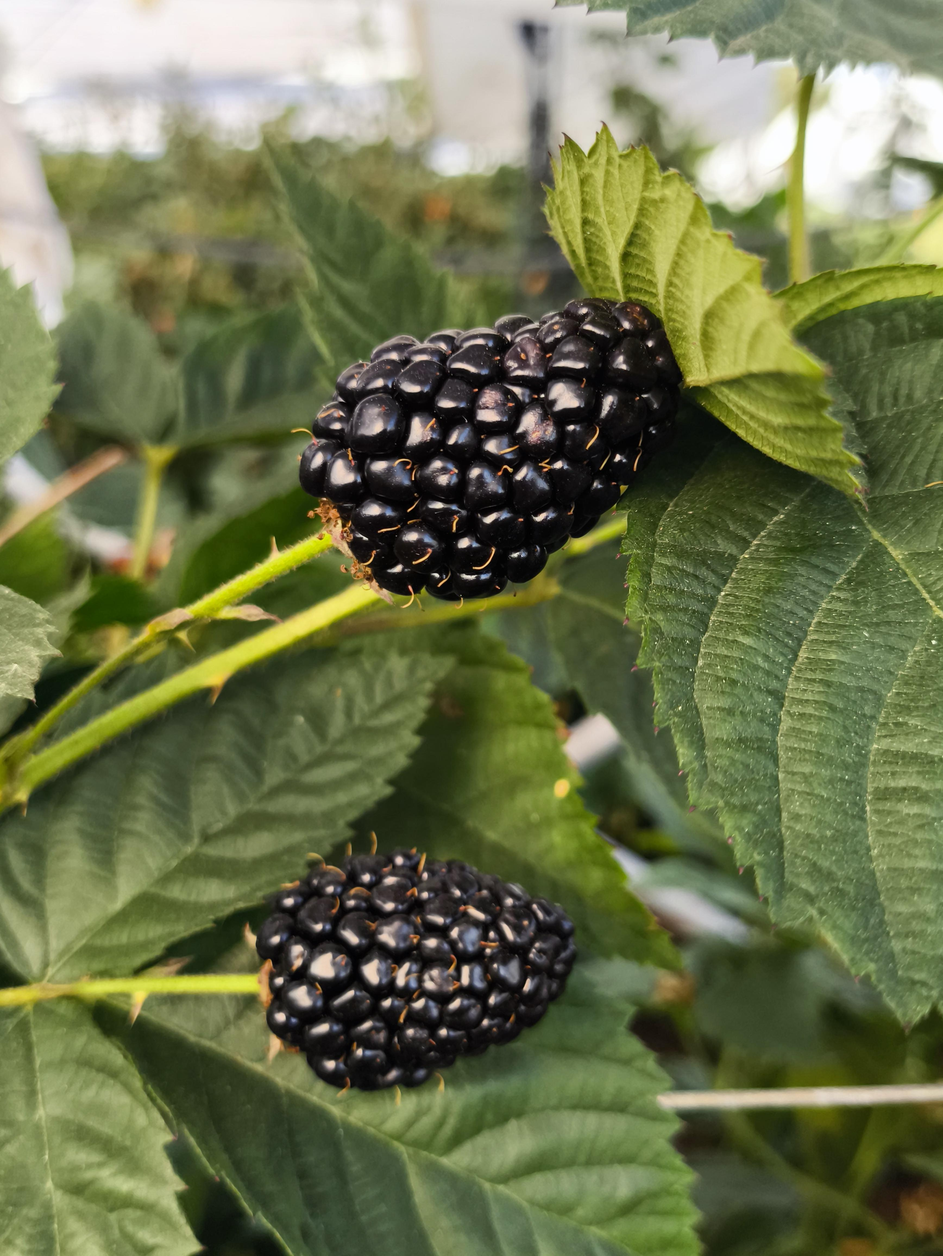maduro: (312, 295, 680, 599), (266, 841, 583, 1084)
